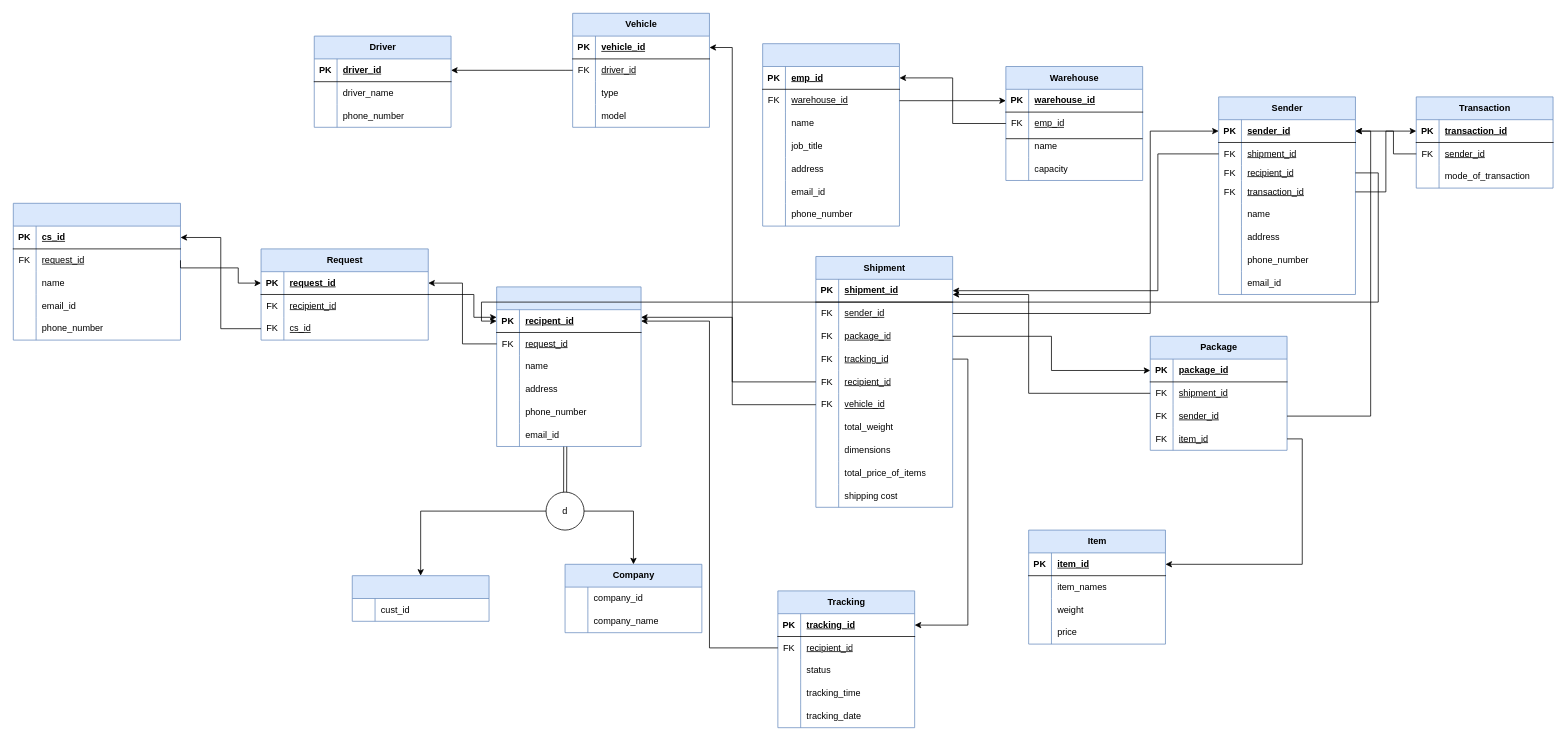
Image size: 1566x741. Some labels were removed from this diagram. The shapes that lost their labels are listed below. From the top down, each one's box as (x1, y1, x2, y2) in pixels, then its label:
(762, 43, 899, 226): Employee
(13, 203, 180, 340): Customer_Service
(496, 286, 641, 446): Recipient
(352, 575, 489, 621): Customer
